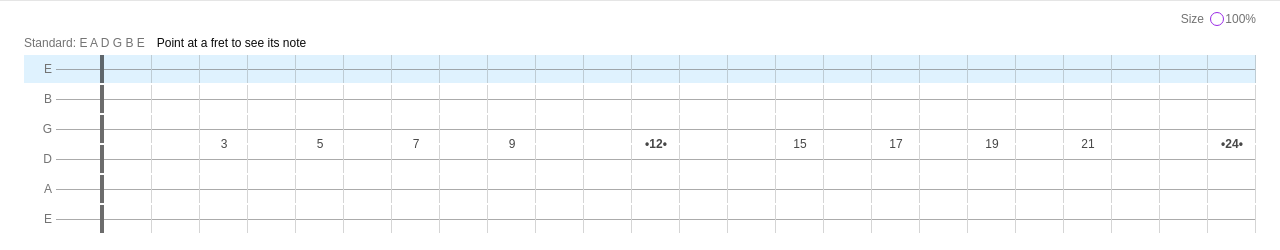
InstrumentPanel: fret hint › shows the string, fret and note under the mouse or the focus
Expected: the text with test id "fret-hint" shows "Point at a fret", [157,36,306,50]
Hover over the button named "Fret 5, A": (320, 69) [296,55,344,83]
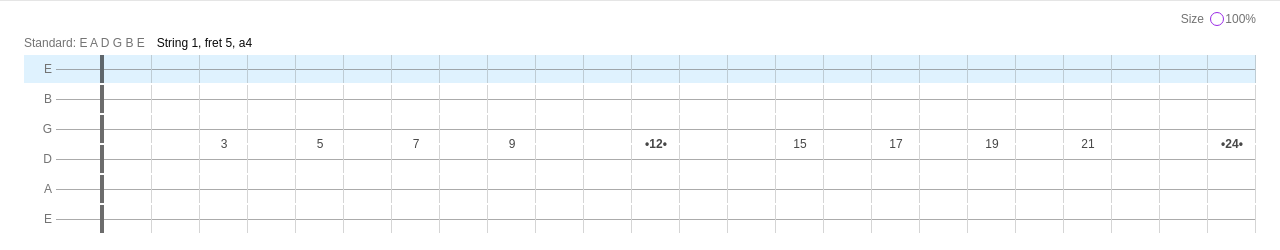
Now the text with test id "fret-hint" reads "String 1, fret 5, a4", box [157,36,252,50]
Move the pointer off the button named "Fret 5, A", box [296,55,344,83]
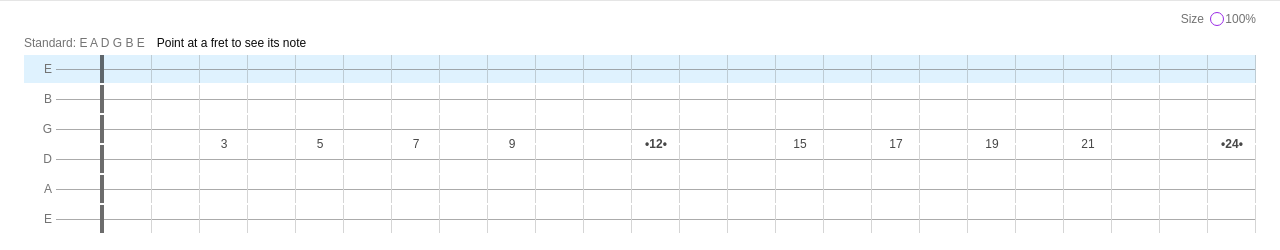
Now the text with test id "fret-hint" shows "Point at a fret", box [157,36,306,50]
